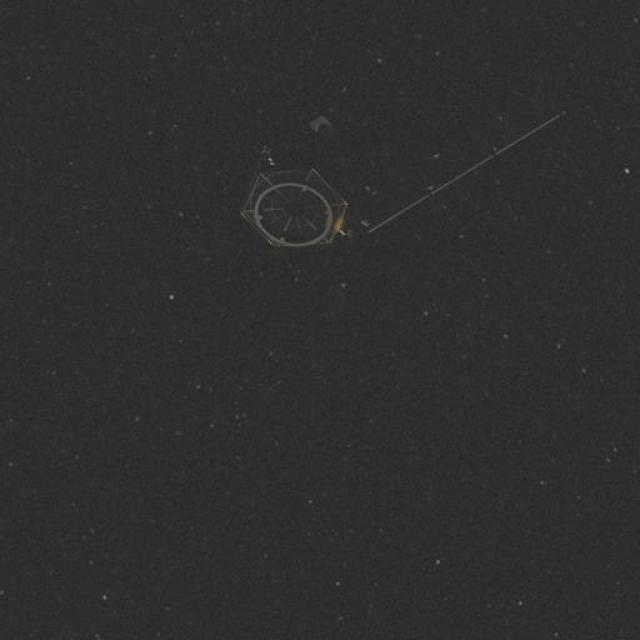earth_observation_sat_1: (234, 96, 410, 262)
